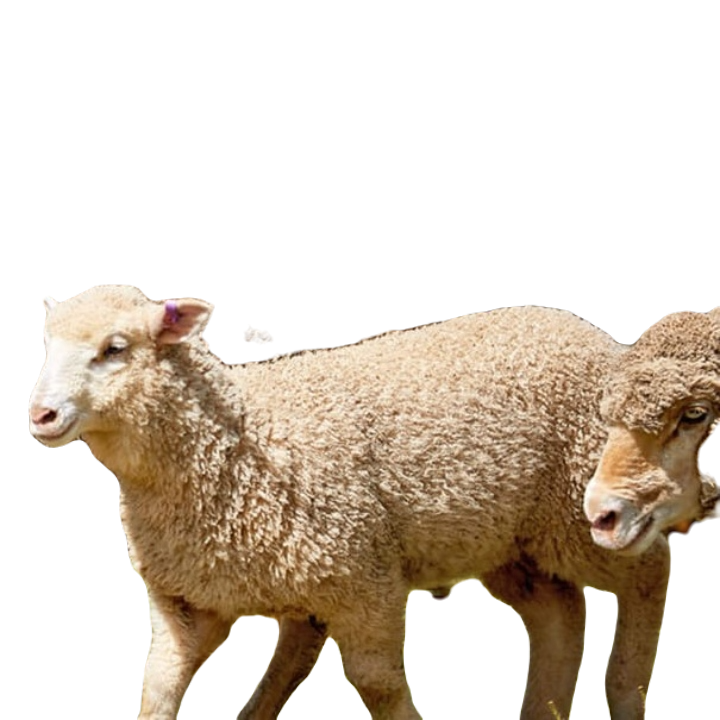Sheep: (20, 280, 667, 719)
